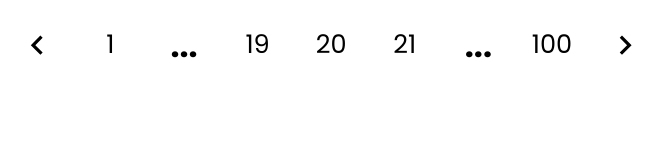
Test: Wnen previous button is clicked › should display previous page
Expected: the button "1" is shown, [82, 16, 138, 74]
Expected: the button "19" is shown, [229, 16, 286, 74]
Click the button with test id "prev".
click(37, 45)  # box [10, 16, 64, 74]
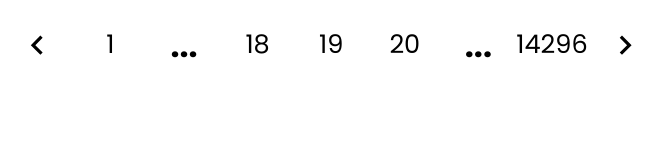
Expected: the button "19" is shown, [302, 16, 360, 74]
Result: the button "18" is shown at [229, 16, 286, 74]
